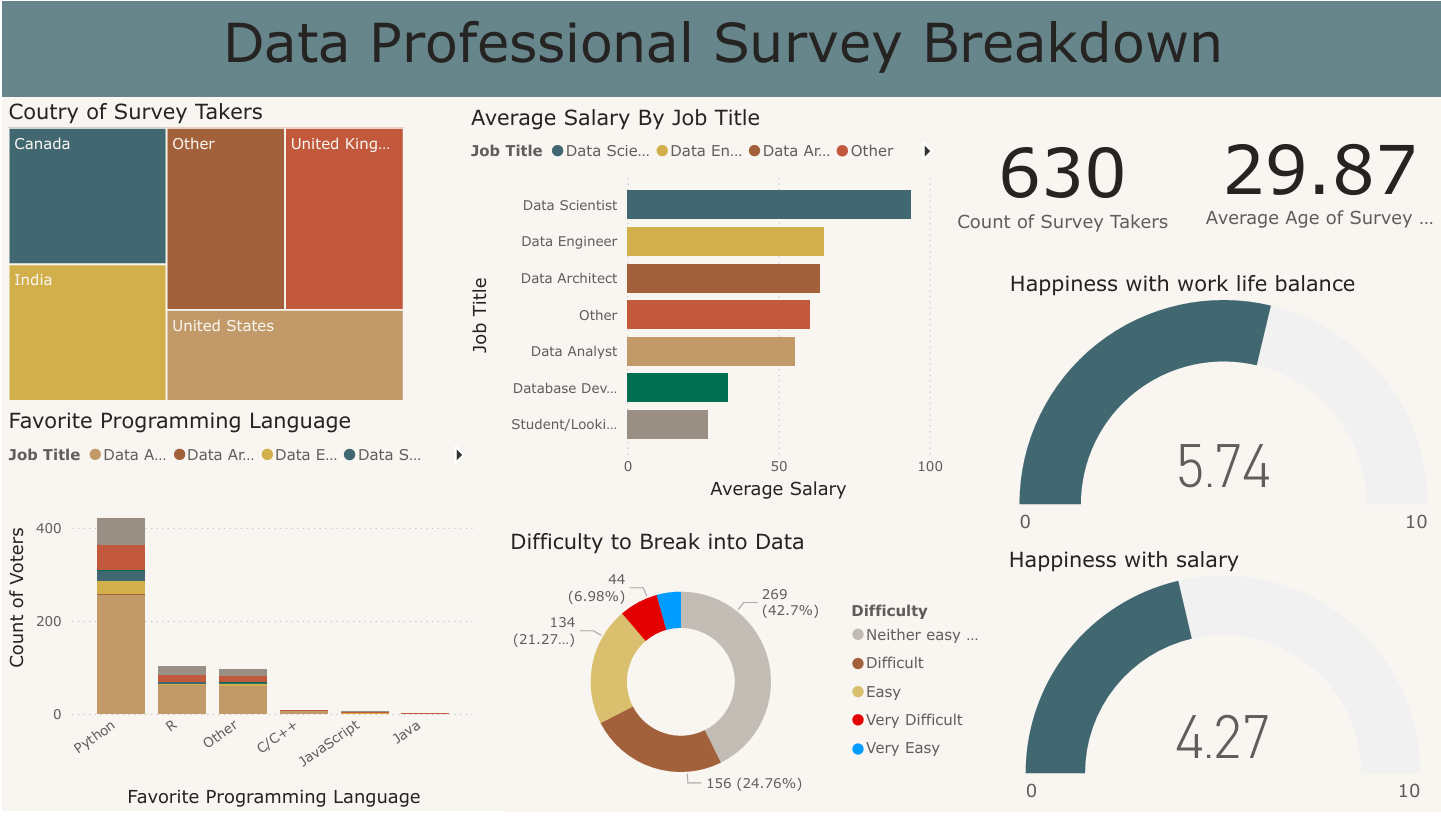

The dashboard page shown, as its layout file describes it:
{"tool":"powerbi","page":{"name":"Page 1","canvas":[1280,720],"ordinal":0},"visuals":[{"type":"textbox","box":[0,0,1280.3,85.1],"z":0},{"type":"card","fields":{"Values":["CountNonNull(Data Professional Survey.Unique ID)"]},"box":[821.4,90.7,241.3,132.5],"z":1000},{"type":"card","fields":{"Values":["Avg(Data Professional Survey.Q10 - Current Age)"]},"box":[1061.3,85.1,219,138.1],"z":2000},{"type":"barChart","title":"Average Salary By Job Title","fields":{"Category":["Data Professional Survey.Q1 - Which Title Best Fits your Current Role?.1"],"Y":["Avg(Data Professional Survey.Average Salary)"],"Series":["Data Professional Survey.Q1 - Which Title Best Fits your Current Role?.1"]},"box":[411.4,90.5,429.5,355.9],"z":3000},{"type":"columnChart","title":"Favorite Programming Language","fields":{"Category":["Data Professional Survey.Q5 - Favorite Programming Language.1"],"Y":["CountNonNull(Data Professional Survey.Unique ID)"],"Series":["Data Professional Survey.Q1 - Which Title Best Fits your Current Role?.1"]},"box":[0,359.8,425.4,359.8],"z":4000},{"type":"treemap","title":"Coutry of Survey Takers","fields":{"Group":["Data Professional Survey.Q11 - Which Country do you live in?.1"],"Values":["Count(Data Professional Survey.Q11 - Which Country do you live in?.1)"]},"box":[0,85.1,361.2,274.7],"z":5000},{"type":"gauge","title":"Happiness with work life balance","fields":{"Y":["Avg(Data Professional Survey.Q6 - How Happy are you in your Current Position with the following? (Work/Life Balance))"],"MinValue":["Min(Data Professional Survey.Q6 - How Happy are you in your Current Position with the following? (Work/Life Balance))"],"MaxValue":["Max(Data Professional Survey.Q6 - How Happy are you in your Current Position with the following? (Work/Life Balance))1"]},"box":[889.8,238.5,390.5,242.7],"z":6000},{"type":"gauge","title":"Happiness with salary","fields":{"Y":["Avg(Data Professional Survey.Q6 - How Happy are you in your Current Position with the following? (Salary))"],"MinValue":["Min(Data Professional Survey.Q6 - How Happy are you in your Current Position with the following? (Salary))"],"MaxValue":["Max(Data Professional Survey.Q6 - How Happy are you in your Current Position with the following? (Salary))"]},"box":[889.5,482.9,390.5,237.1],"z":7000},{"type":"donutChart","title":"Difficulty to Break into Data","fields":{"Category":["Data Professional Survey.Q7 - How difficult was it for you to break into Data?"],"Y":["CountNonNull(Data Professional Survey.Q7 - How difficult was it for you to break into Data?)"]},"box":[446.3,467.2,443.5,252.4],"z":8000}]}

Visuals, with their boxes in screenshot pixels (x1, y1, x2, y2), scaled from the page's 1280x720 canvas onto the 1441x821 screenshot:
textbox: pyautogui.locateOnScreen(0, 0, 1440, 97)
card - CountNonNull(Data Professional Survey.Unique ID): pyautogui.locateOnScreen(925, 103, 1196, 255)
card - Avg(Data Professional Survey.Q10 - Current Age): pyautogui.locateOnScreen(1195, 97, 1440, 255)
"Average Salary By Job Title" barChart: pyautogui.locateOnScreen(463, 103, 947, 509)
"Favorite Programming Language" columnChart: pyautogui.locateOnScreen(0, 410, 479, 820)
"Coutry of Survey Takers" treemap: pyautogui.locateOnScreen(0, 97, 407, 410)
"Happiness with work life balance" gauge: pyautogui.locateOnScreen(1002, 272, 1440, 549)
"Happiness with salary" gauge: pyautogui.locateOnScreen(1001, 551, 1440, 820)
"Difficulty to Break into Data" donutChart: pyautogui.locateOnScreen(502, 533, 1002, 820)
